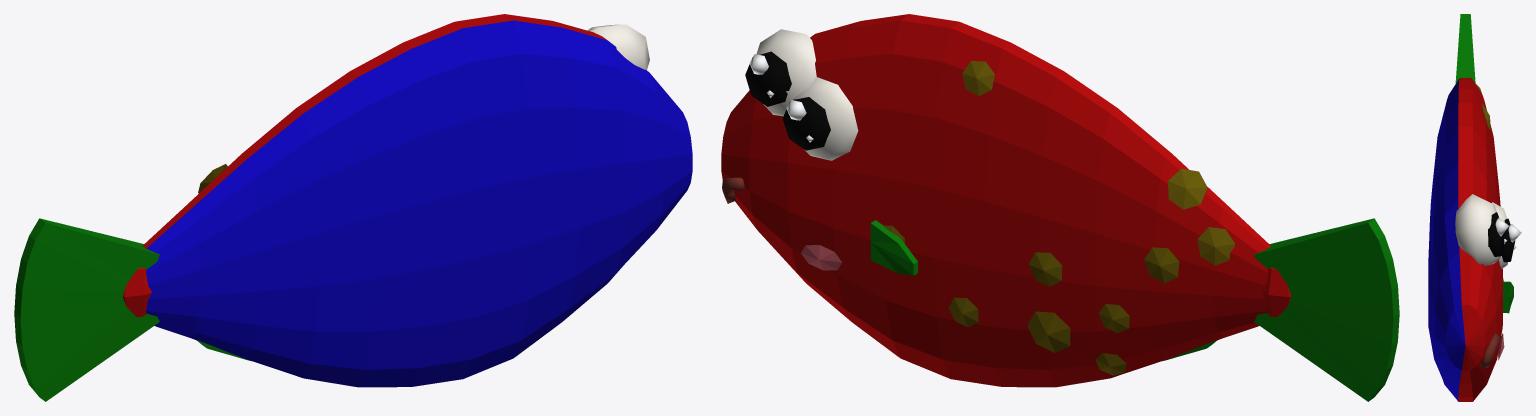
The model's file is fish-flounder.glb.
3 renders of one model, left to right at view 1: azimuth 30°, elevation 25°; view 2: azimuth 150°, elevation 25°; view 3: azimuth 270°, elevation 25°, orthographic. The views are drawn at different scales.
Visible parts, largest first — view 1: body, tail; view 2: body, tail; view 3: body, tail.
Boxes of the visible parts, <box> form: body: <box>143,14,692,387</box>; tail: <box>14,218,159,401</box>; body: <box>721,14,1270,387</box>; tail: <box>1254,218,1399,401</box>; body: <box>1428,76,1521,401</box>; tail: <box>1455,14,1475,83</box>.
Bounding box in the file's own units: 0.9465 × 0.4704 × 0.1396.
